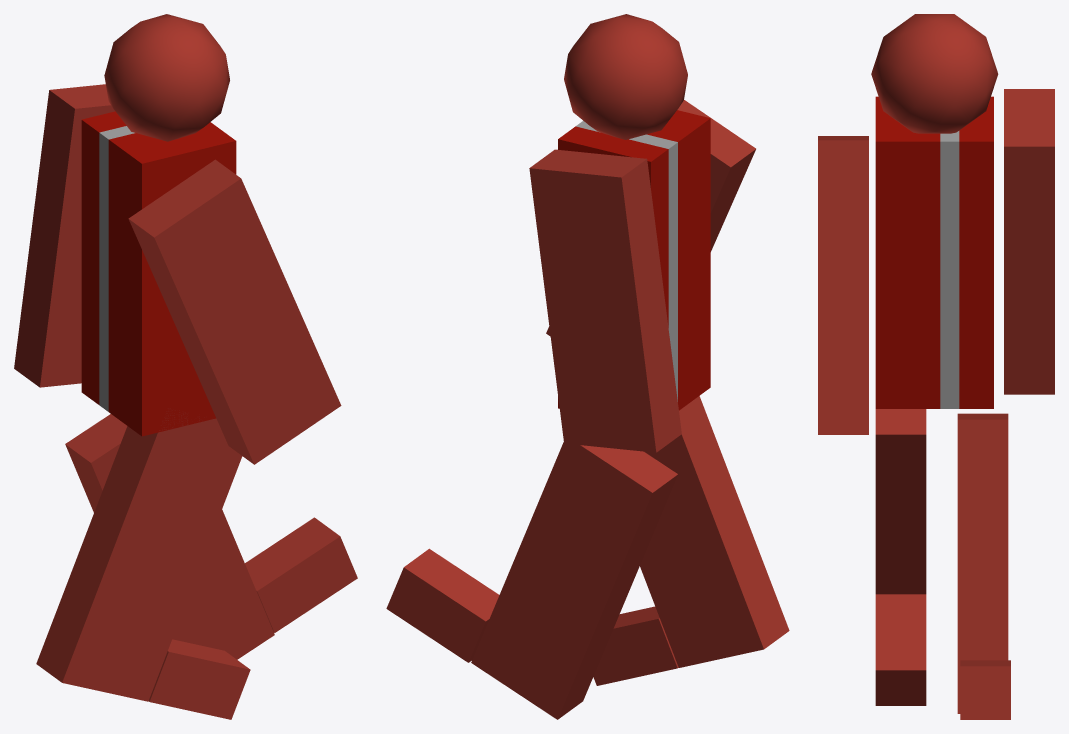
The model's file is player_000065.obj.
The picture shows the model from 3 angles, left to right: view 1: azimuth 30°, elevation 25°; view 2: azimuth 150°, elevation 25°; view 3: azimuth 270°, elevation 25°; orthographic projection. The views are drawn at different scales.
Visible parts, largest first — view 1: Cube.013, Cube.010, Cube.007, Cube.012, Icosphere.001, Cube.008, Cube.009, Cube.011; view 2: Cube.012, Cube.008, Cube.010, Cube.007, Icosphere.001, Cube.009, Cube.011, Cube.013; view 3: Cube.007, Cube.012, Cube.013, Cube.008, Icosphere.001, Cube.010, Cube.011, Cube.009.
Boxes of the visible parts, x1,y1,x2,y2 form: Cube.013: (128,159,341,464); Cube.010: (36,408,242,701); Cube.007: (81,111,236,436); Cube.012: (14,84,114,387); Icosphere.001: (104,14,229,141); Cube.008: (65,414,274,659); Cube.009: (245,517,357,632); Cube.011: (148,639,250,719); Cube.012: (529,149,681,452); Cube.008: (471,442,677,719); Cube.010: (640,396,789,667); Cube.007: (558,110,710,410); Icosphere.001: (564,14,687,139); Cube.009: (386,548,499,662); Cube.011: (593,606,678,685); Cube.013: (546,100,755,336); Cube.007: (875,96,993,408); Cube.012: (1004,89,1054,394); Cube.013: (818,136,868,434); Cube.008: (957,413,1008,713); Icosphere.001: (871,14,998,133); Cube.010: (875,409,926,594); Cube.011: (875,594,926,705); Cube.009: (960,660,1010,719).
Bounding box in the file's own units: 1.48 × 2.88 × 0.9137.
